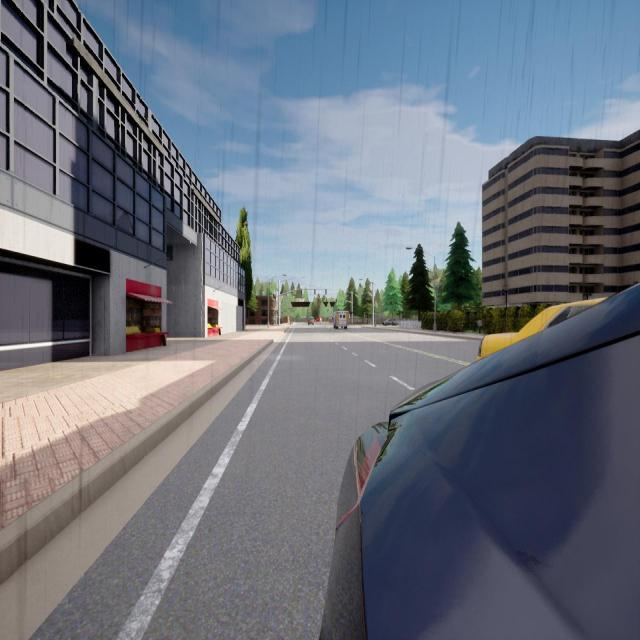Vehicle: (321, 284, 639, 638), (476, 298, 605, 359), (334, 311, 348, 329), (383, 319, 397, 326), (308, 317, 314, 325), (316, 318, 321, 322)
traffic_light: (314, 290, 316, 294), (318, 298, 319, 302), (301, 290, 302, 294), (326, 299, 327, 302), (336, 299, 337, 302), (352, 311, 352, 314), (326, 290, 326, 294)
